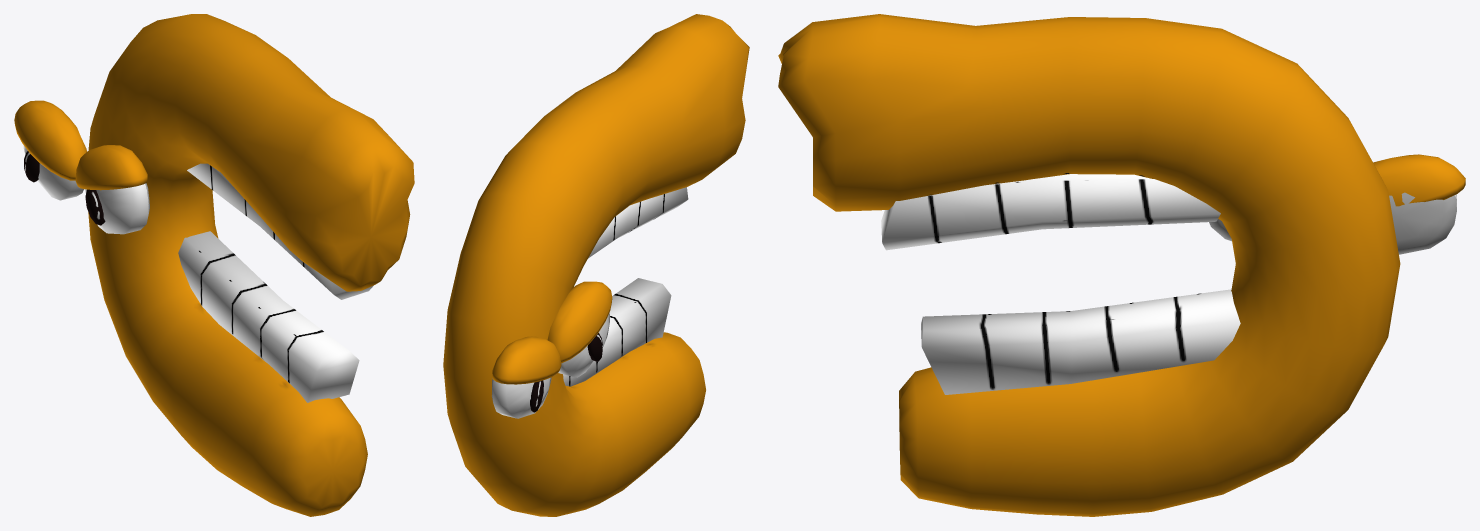
The model's file is C Letter.fbx.
3 views of the same model, side by side, from view 1: azimuth 30°, elevation 25°; view 2: azimuth 150°, elevation 25°; view 3: azimuth 270°, elevation 25° (orthographic). The views are drawn at different scales.
Visible parts, largest first — view 1: C Letter; view 2: C Letter; view 3: C Letter.
Boxes of the visible parts, x1,y1,x2,y2 form: C Letter: (14,14,414,516); C Letter: (443,14,749,516); C Letter: (778,14,1465,516).
Size of the model in its own units: 37.37 by 111 by 140.
